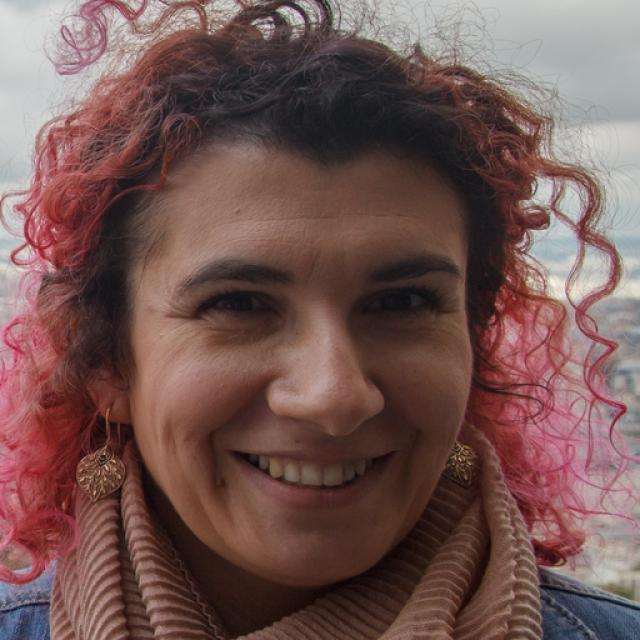Acne: (215, 471, 235, 487), (227, 204, 246, 219)
Wrinkle: (237, 209, 427, 226)
